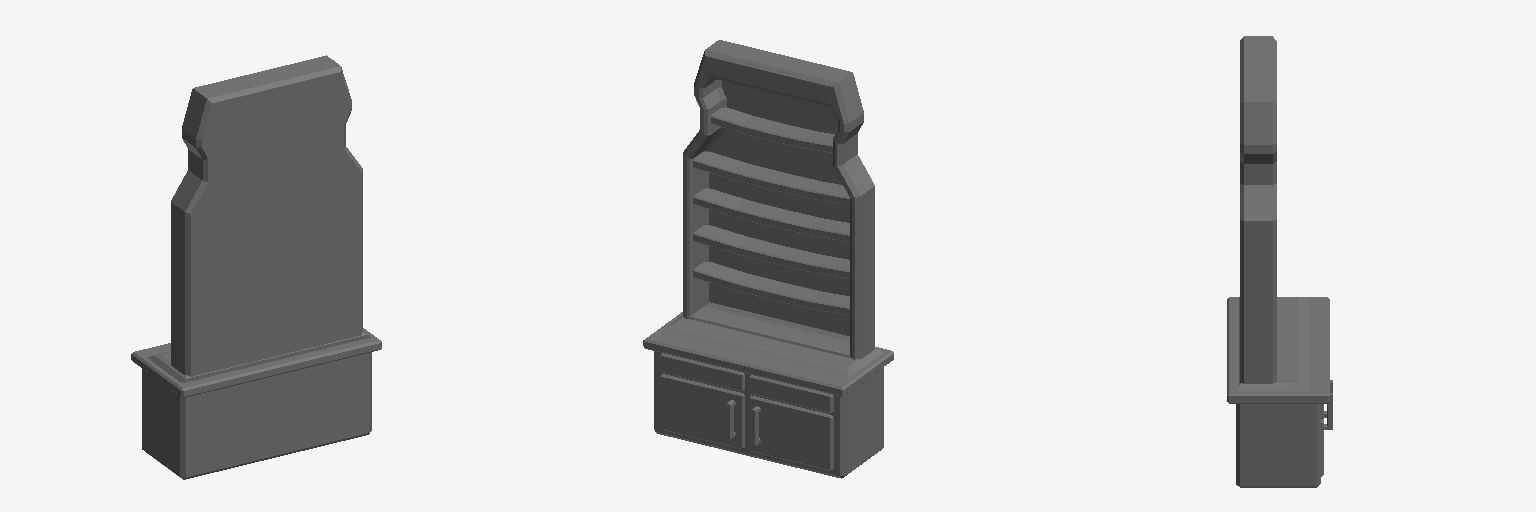
The model's file is bigBookshelf.obj.
The picture shows the model from 3 angles: view 1: azimuth 30°, elevation 25°; view 2: azimuth 150°, elevation 25°; view 3: azimuth 270°, elevation 25°; orthographic projection.
Visible parts, largest first — view 1: hallBookshelf; view 2: hallBookshelf; view 3: hallBookshelf.
Part boxes in pixels (left/top/right/bottom): hallBookshelf: left=131, top=55, right=381, bottom=479; hallBookshelf: left=643, top=40, right=893, bottom=478; hallBookshelf: left=1227, top=36, right=1332, bottom=487.
Size of the model in its own units: 11.22 by 19.93 by 5.15.